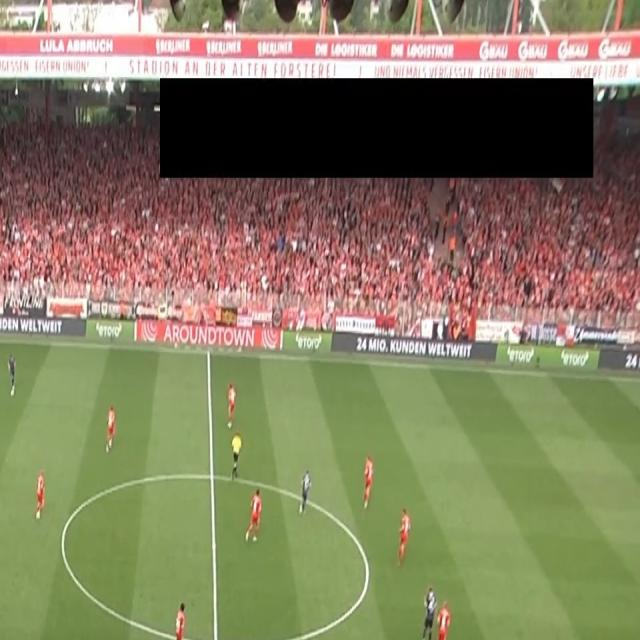ball: (10, 388, 15, 398)
